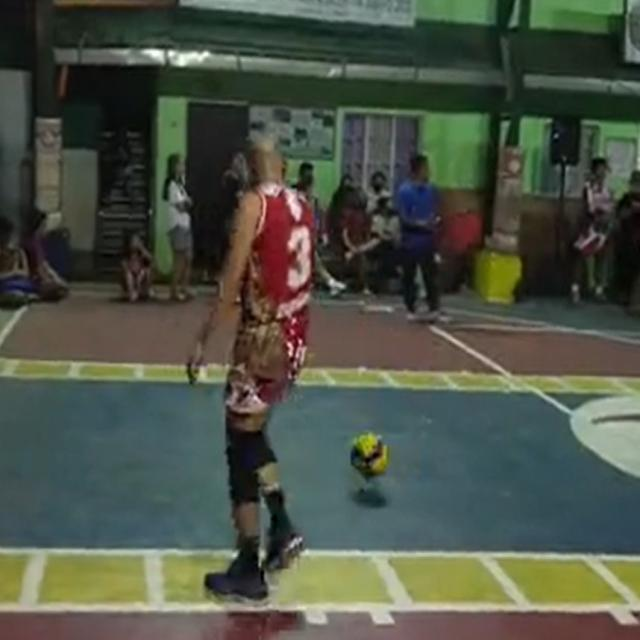volleyball: (349, 432, 388, 480)
